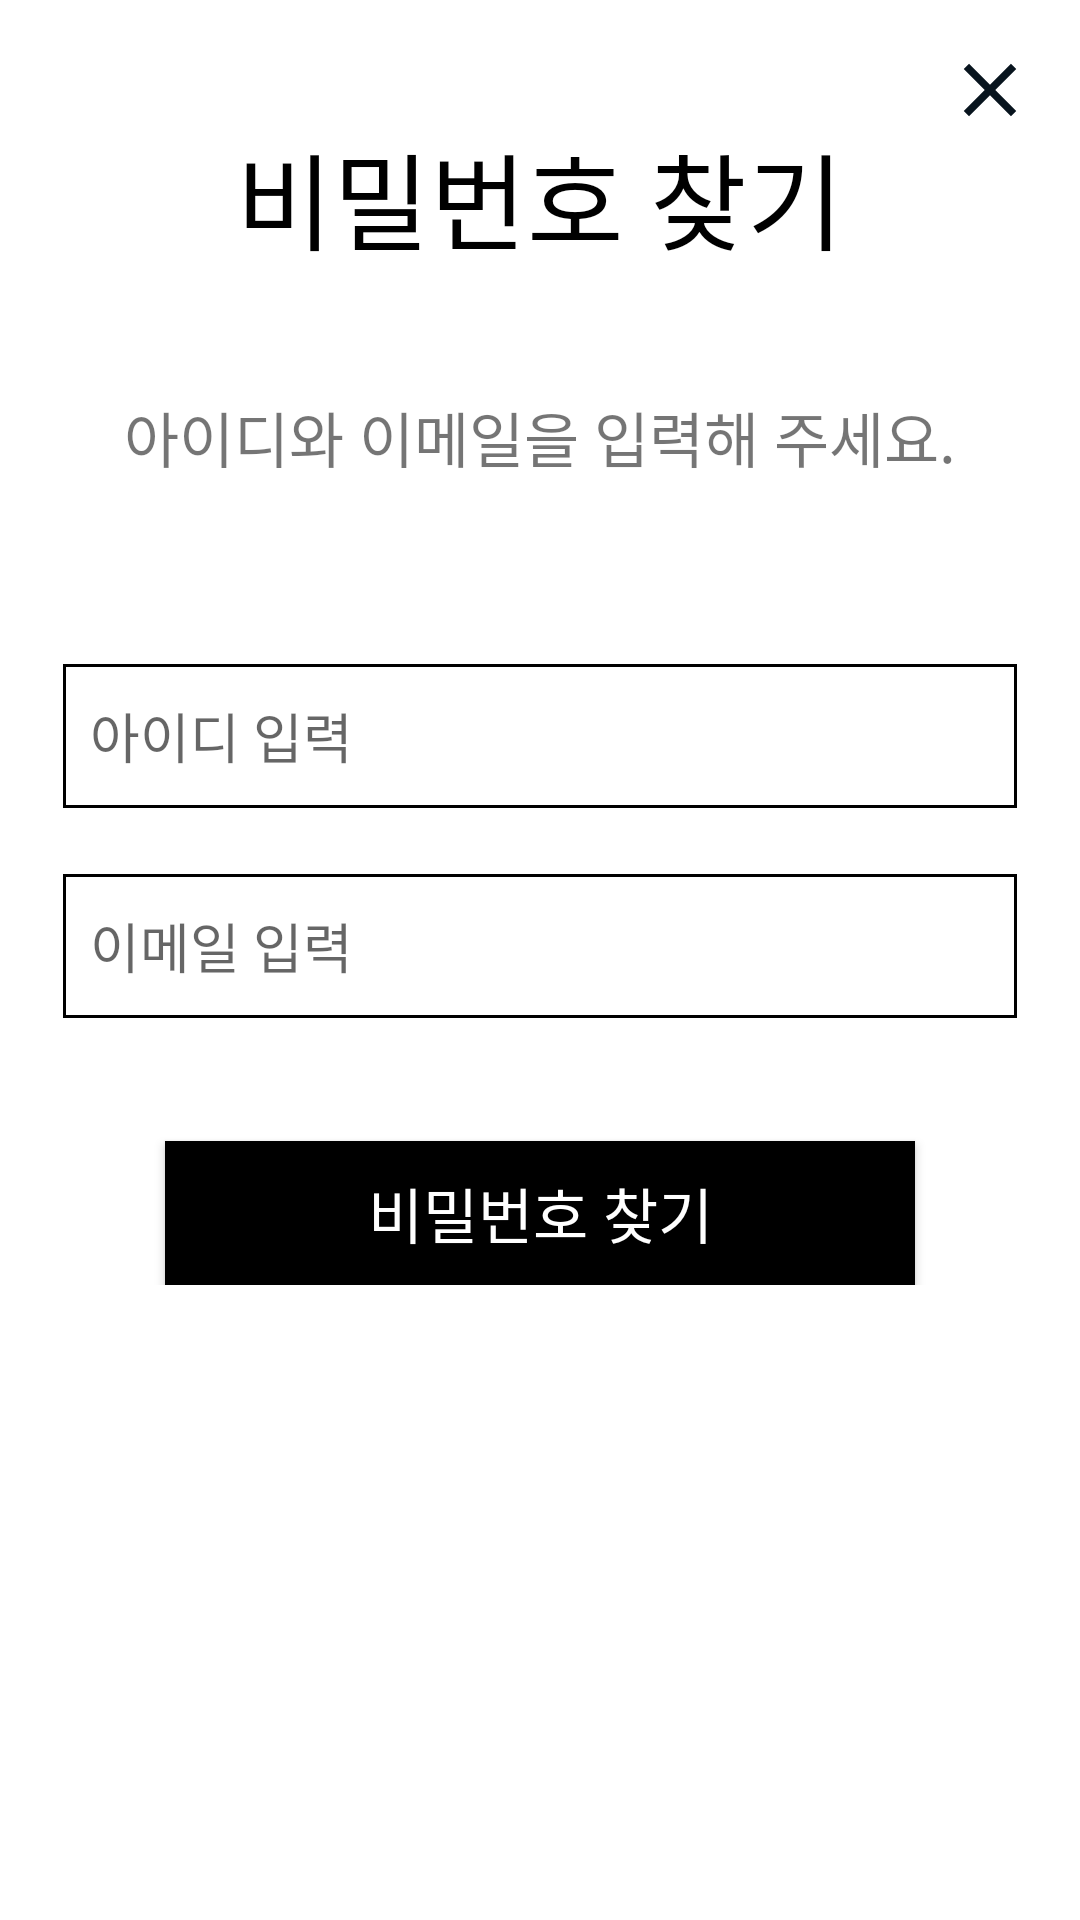

Named icons in this screenshot (1080px×1920px) and their bounding boxes, (x1, y1, x2, y2):
close: (964, 64, 1016, 116)
